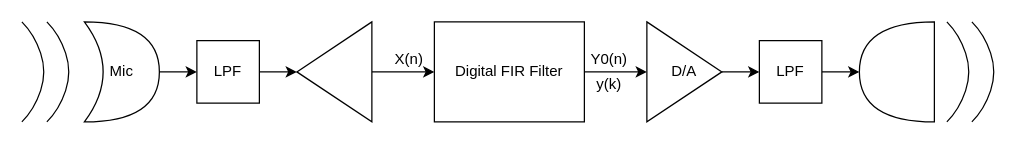
Image size: 1016x144. Some labels were removed from this diagram. The shapes that lost their labels are listed below. From the top down, each one's centre as x and y in pixels, then its label:
[334,71]: A/D
[896,71]: Speaker
